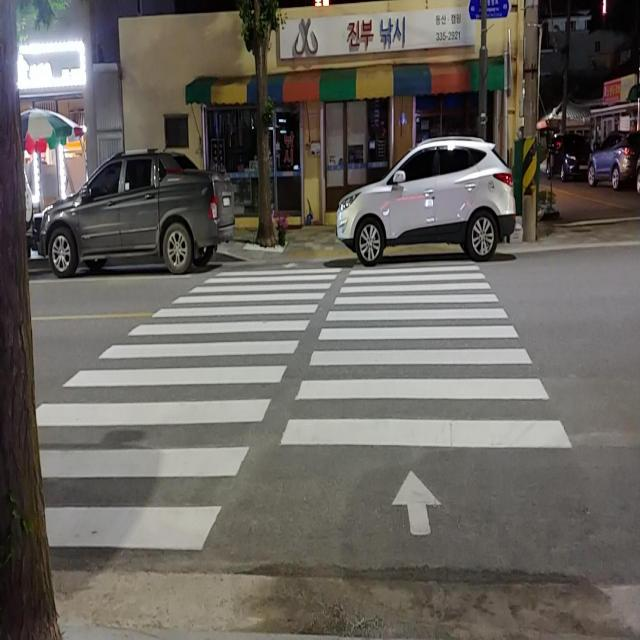횡단보도: (36, 262, 573, 552)
